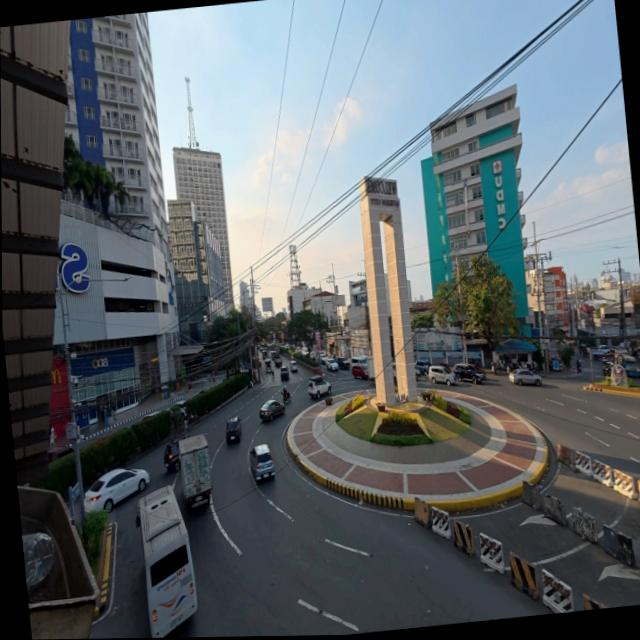Jeepneys: (613, 353, 639, 378), (264, 359, 272, 373)
bus: (136, 487, 196, 637)
car: (84, 469, 149, 512), (249, 444, 275, 480), (149, 399, 187, 418), (453, 363, 484, 383), (162, 440, 179, 472), (509, 368, 540, 385), (259, 400, 284, 421), (428, 366, 455, 385), (307, 375, 330, 397), (224, 417, 241, 444), (47, 446, 72, 462), (351, 364, 368, 380), (468, 364, 486, 379), (414, 360, 429, 376), (140, 411, 160, 421), (325, 358, 338, 371), (335, 357, 349, 369), (602, 360, 612, 376), (280, 366, 289, 381), (288, 360, 298, 373), (318, 353, 327, 364), (309, 353, 316, 361)
motorcycle: (491, 362, 504, 376), (506, 361, 518, 373), (282, 389, 290, 403), (576, 359, 581, 373)
trucks: (178, 435, 211, 507), (366, 356, 374, 380), (273, 352, 281, 368)
vans: (351, 356, 366, 371)
